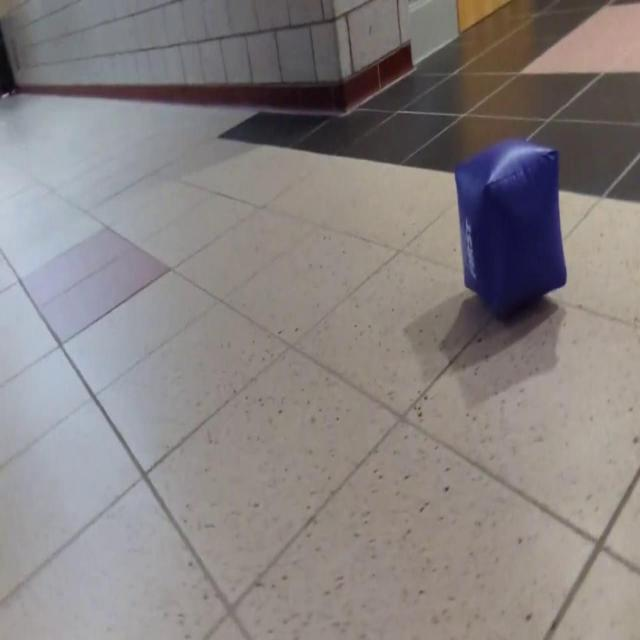frc_cube: (453, 134, 568, 321)
